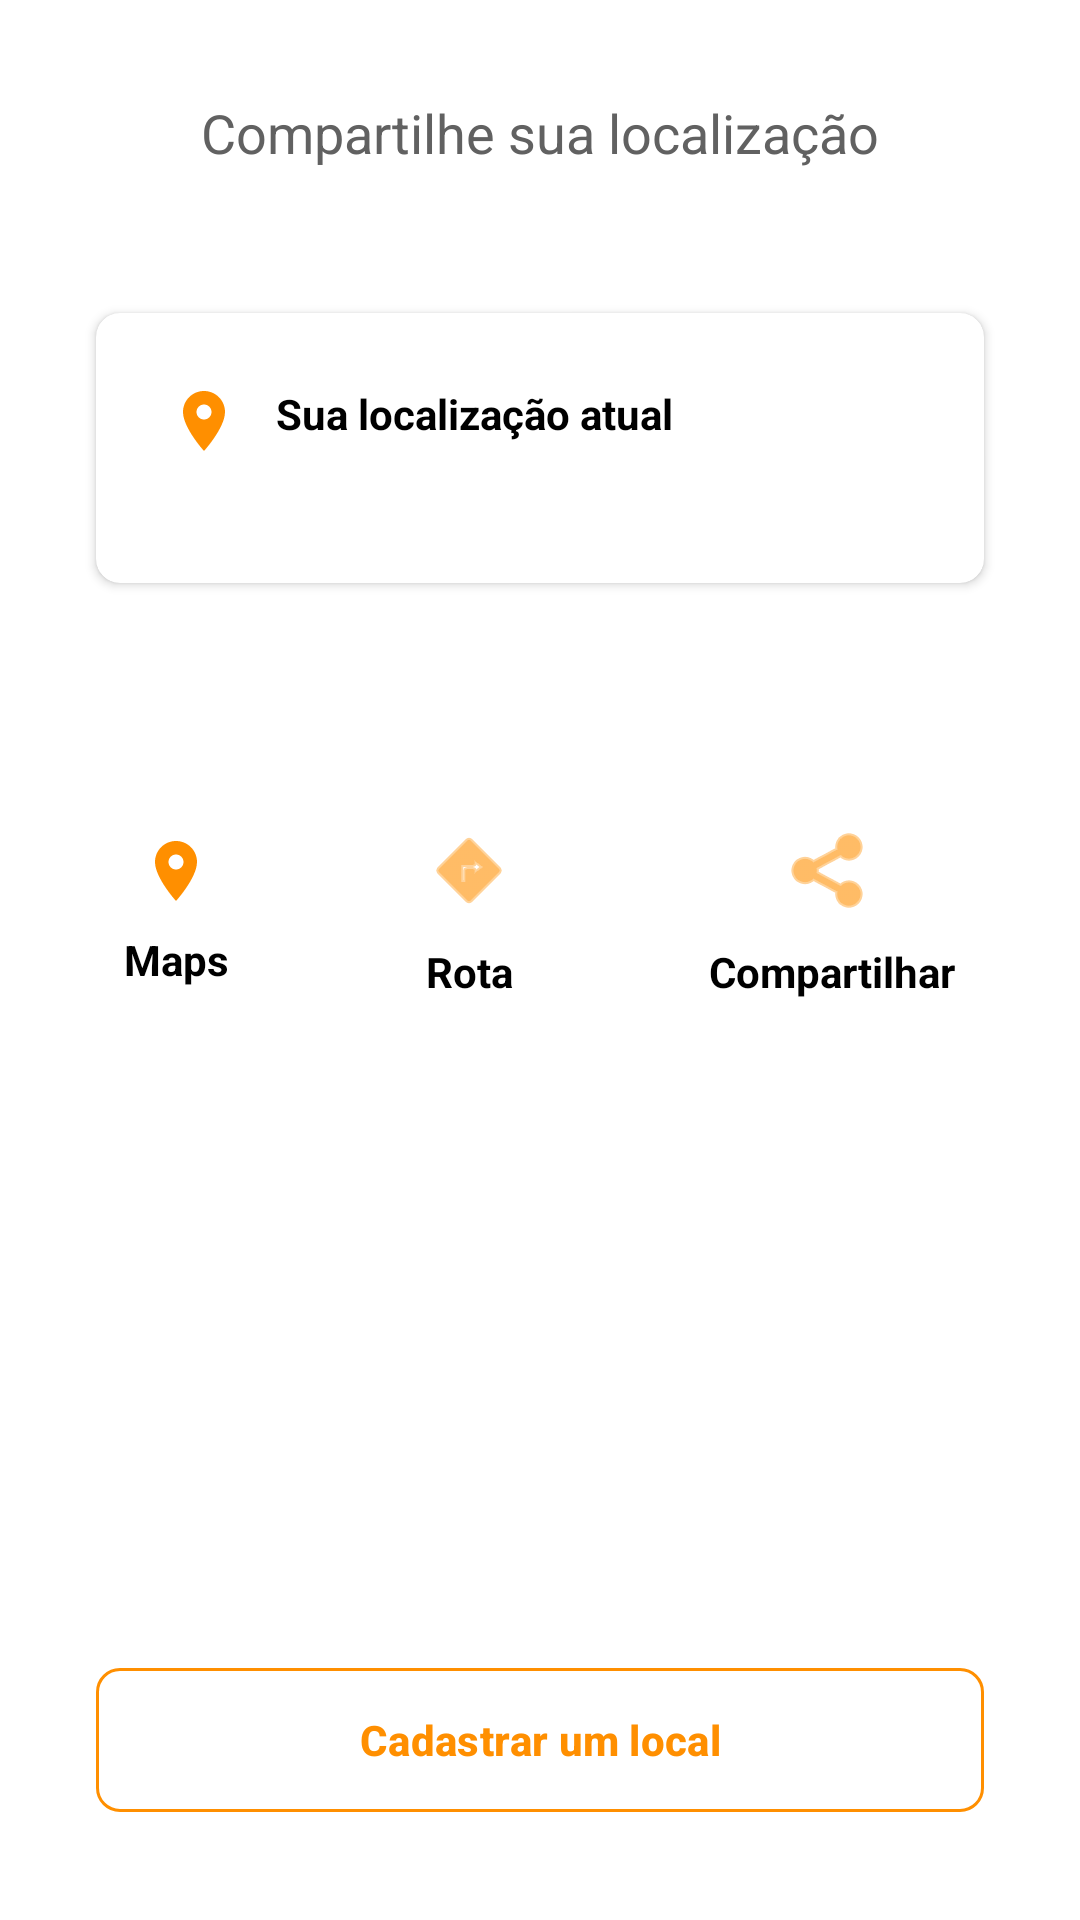

Named icons in this screenshot (1080px x 1920px) and their bounding boxes, (x1, y1, x2, y2):
Ícone de localização: (183, 391, 225, 451)
